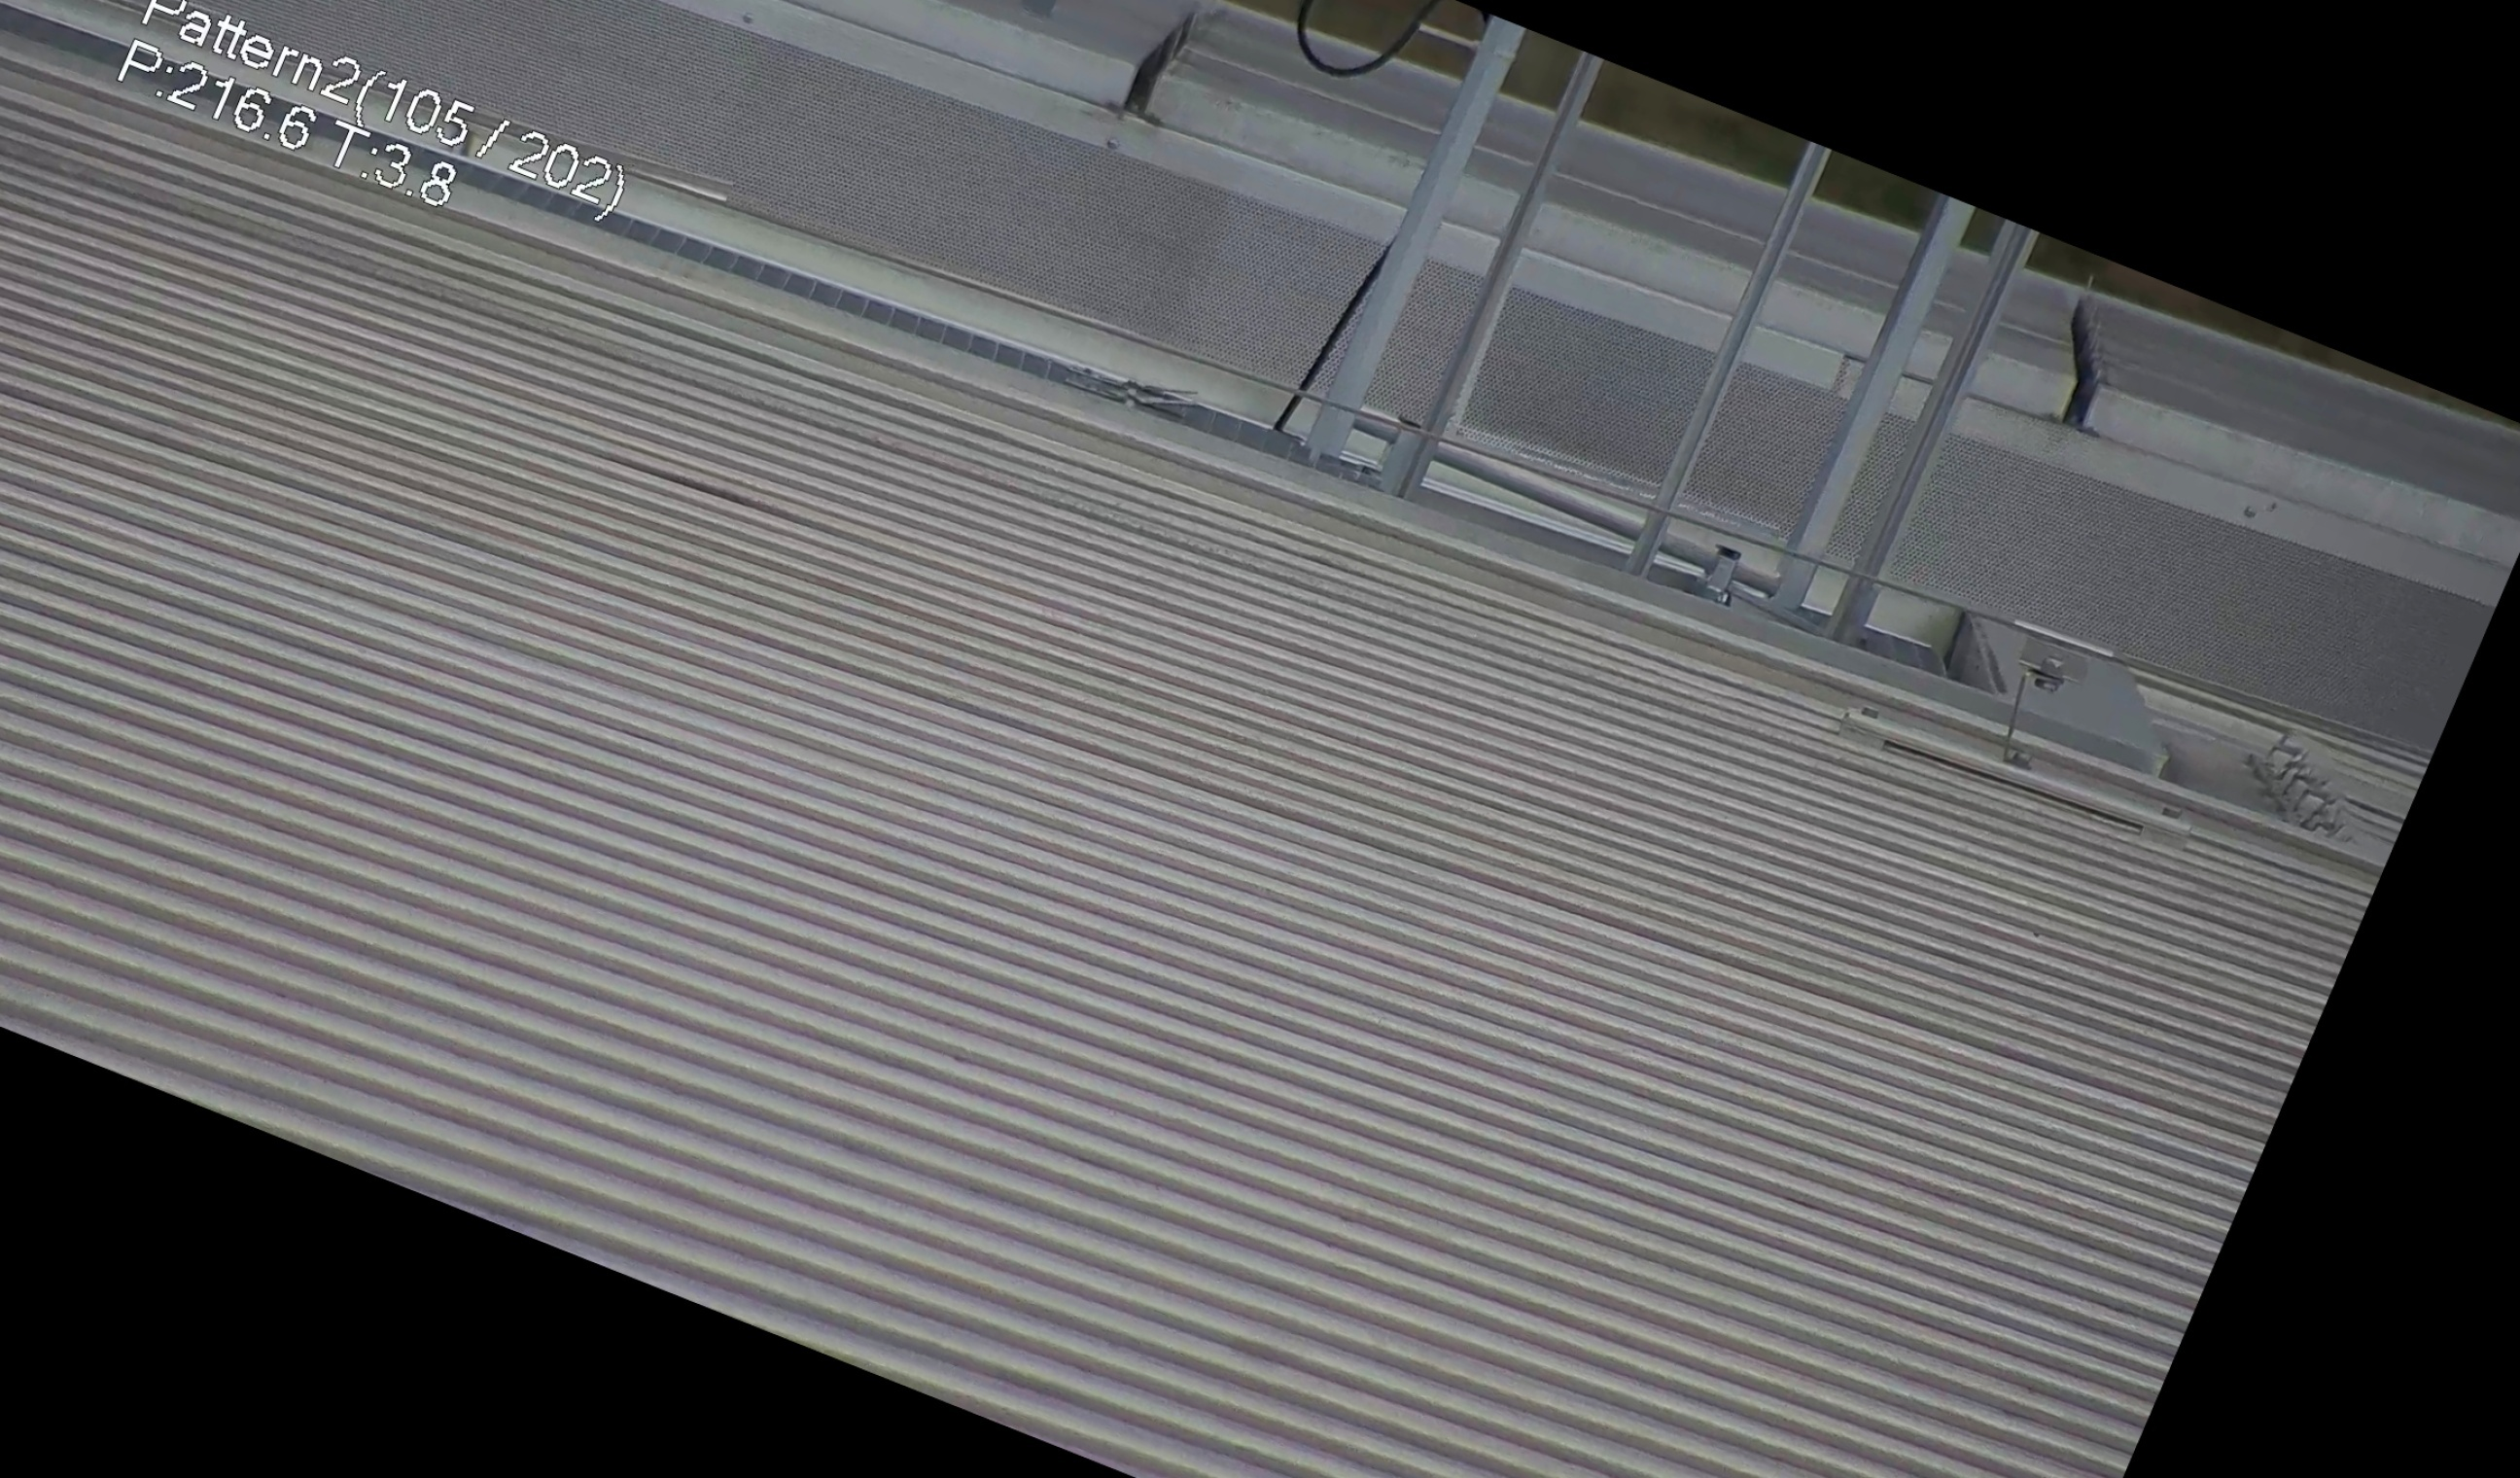Other: (2026, 289, 2167, 445)
